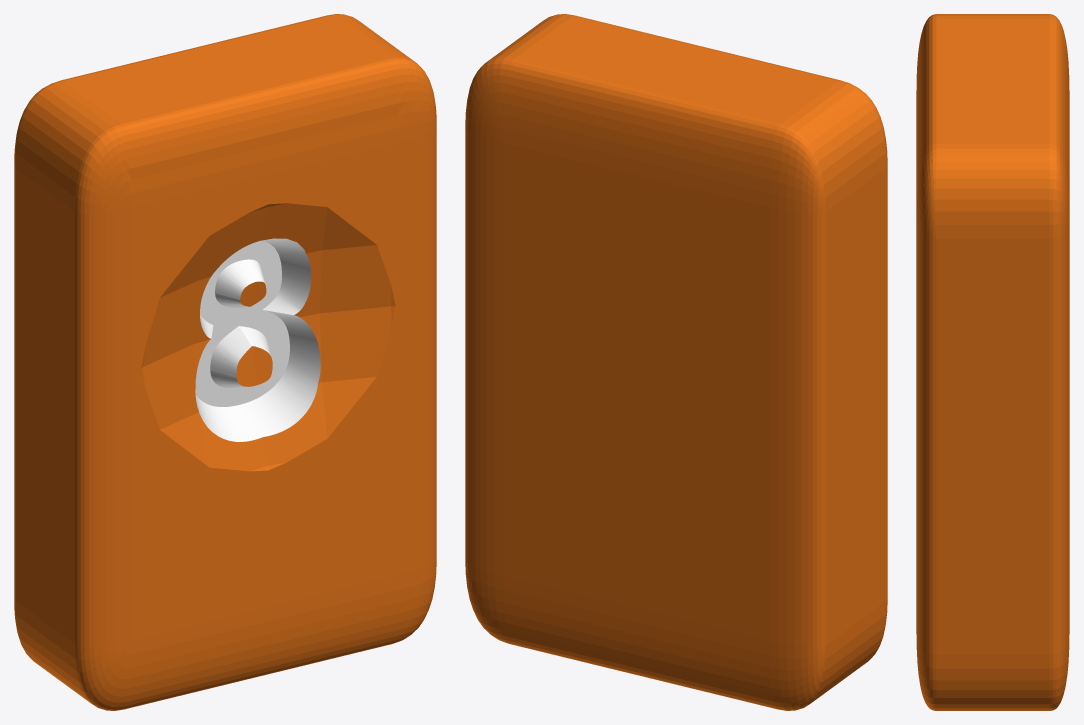
File: Rummikub Card 8.FBX
3 renders of one model, left to right at view 1: azimuth 30°, elevation 25°; view 2: azimuth 150°, elevation 25°; view 3: azimuth 270°, elevation 25°, orthographic. The views are drawn at different scales.
Visible parts, largest first — view 1: CardModel; view 2: CardModel; view 3: CardModel.
Part boxes in pixels (bbox=[...]): CardModel: bbox=[14, 14, 436, 710]; CardModel: bbox=[465, 14, 887, 710]; CardModel: bbox=[916, 14, 1069, 710].
Size of the model in its own units: 44.87 by 69.66 by 17.19.
